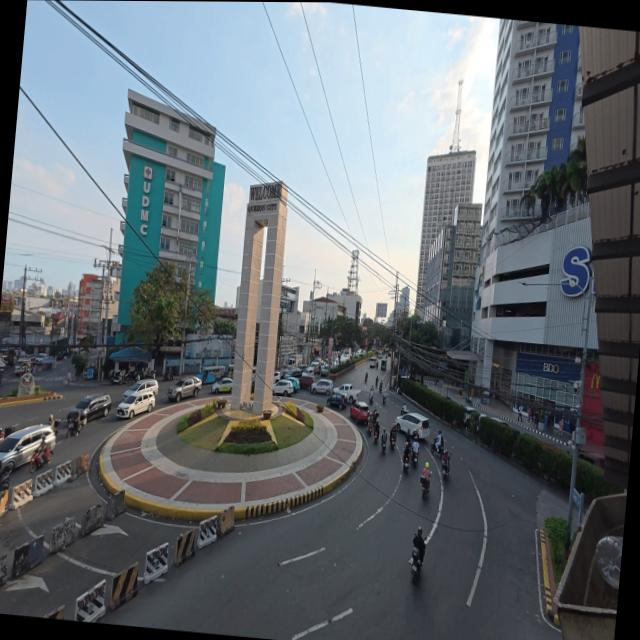car: (166, 374, 200, 402), (348, 401, 374, 424), (272, 376, 300, 397), (311, 378, 334, 396)
